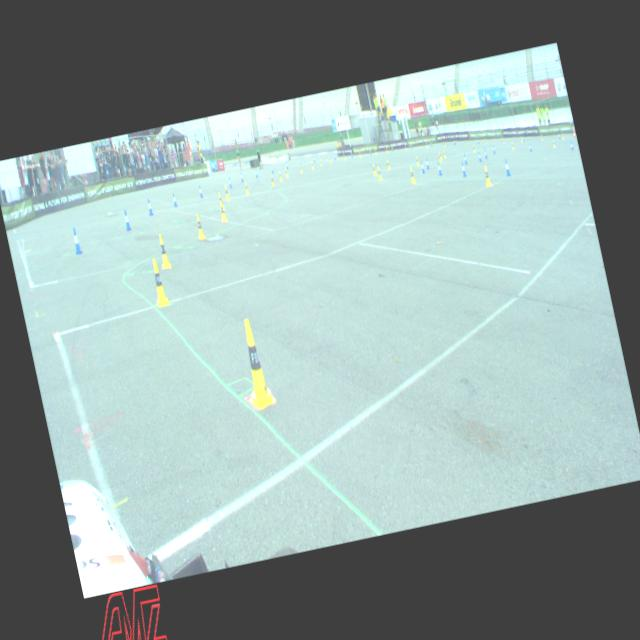blue_cone: (69, 226, 83, 255), (121, 207, 132, 231), (502, 157, 511, 177), (145, 196, 154, 216), (170, 192, 178, 208), (196, 183, 204, 198), (460, 160, 466, 177), (482, 146, 488, 160), (227, 175, 233, 189), (424, 158, 430, 170), (419, 159, 424, 173), (568, 140, 574, 151), (436, 162, 441, 175), (477, 150, 482, 162), (239, 171, 244, 182), (462, 154, 467, 164), (527, 142, 532, 152), (332, 152, 337, 162), (270, 164, 274, 174), (254, 168, 258, 178), (491, 144, 495, 154), (284, 160, 288, 170), (452, 138, 457, 146), (557, 131, 561, 140), (298, 157, 302, 166), (312, 155, 316, 164), (476, 137, 480, 145)
large_orange_cone: (571, 126, 576, 138)
yellow_cone: (232, 317, 278, 412), (146, 255, 171, 308), (154, 232, 172, 270), (193, 212, 206, 241), (216, 199, 228, 223), (482, 165, 492, 187), (216, 190, 225, 211), (408, 164, 416, 184), (222, 183, 230, 201), (243, 180, 250, 196), (376, 165, 382, 180), (414, 156, 420, 167), (372, 162, 376, 176), (385, 159, 390, 170), (471, 143, 476, 154), (551, 138, 556, 149), (270, 174, 274, 187), (278, 169, 282, 181), (437, 151, 441, 163), (501, 134, 505, 146), (284, 166, 288, 178), (403, 142, 408, 151), (510, 140, 514, 151), (310, 160, 314, 170), (442, 148, 446, 158), (560, 130, 564, 140), (342, 152, 346, 162), (483, 138, 488, 146), (519, 134, 523, 144), (298, 163, 302, 173), (540, 132, 544, 142), (328, 155, 332, 164), (318, 158, 322, 167), (424, 140, 428, 149), (442, 140, 446, 149), (385, 145, 389, 153), (358, 150, 362, 158), (464, 140, 468, 147), (374, 148, 376, 156)
